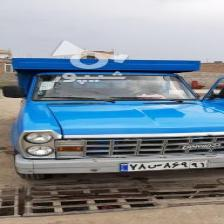plate: (115, 160, 205, 172)
